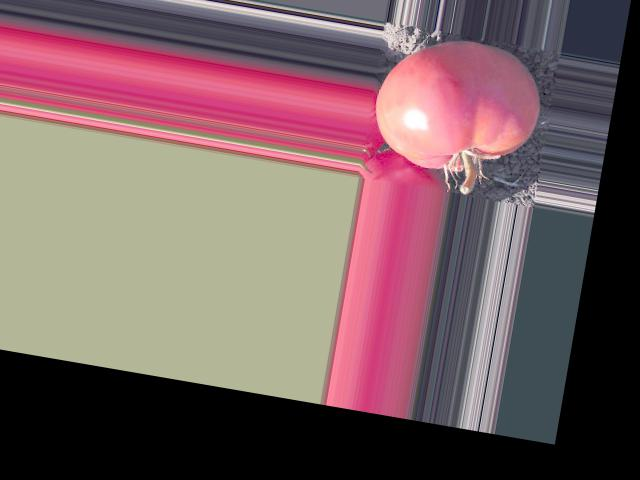tomato: (367, 27, 549, 184)
